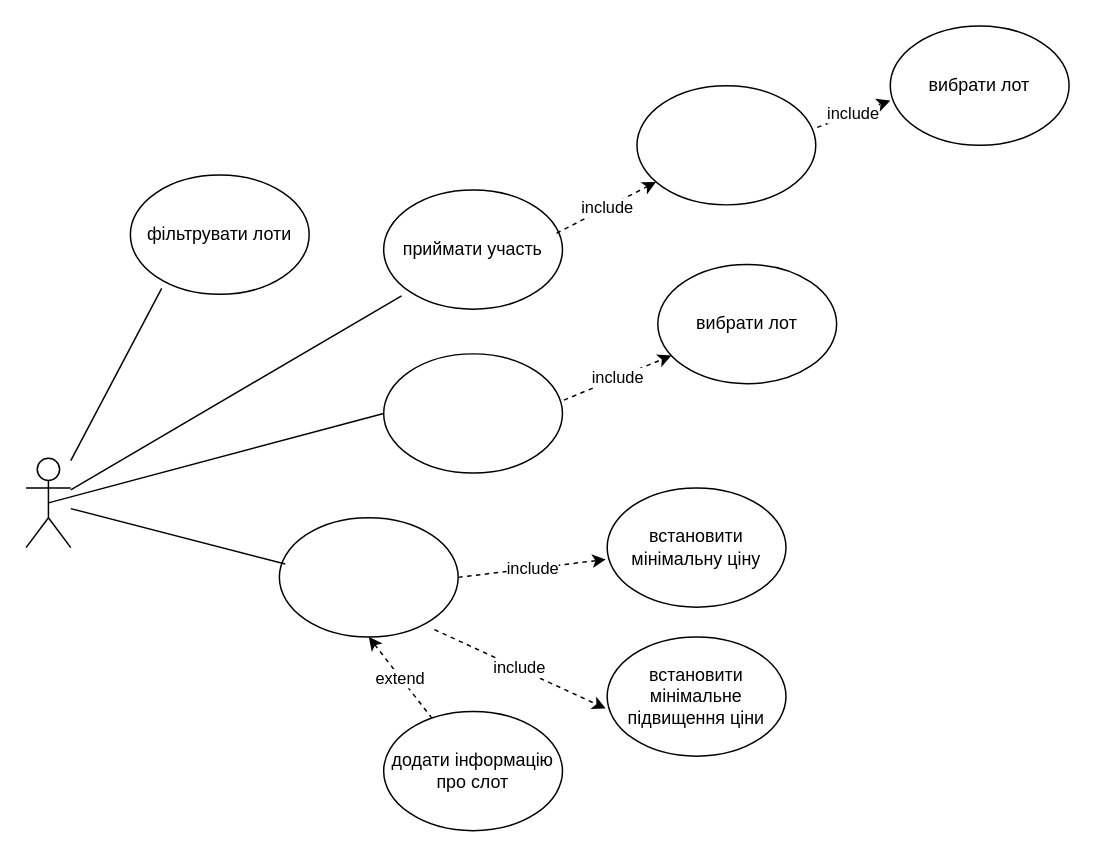
This 1095x857 diagram has some shape labels left out. The centre of each missing label's shape, as x and y in pixels:
"Actor" goes at point 48,502.
"додати свою ціну" goes at point 725,144.
"переглянути інформацію про лот" goes at point 472,412.
"створити лот" goes at point 368,576.
